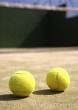tennis ball: (4, 68, 37, 98), (41, 65, 72, 96)
